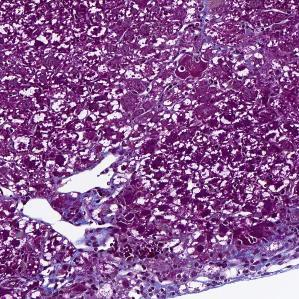fibrosis: (79, 195, 123, 223)
